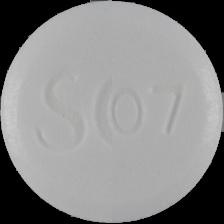44946-1009: (0, 0, 224, 224)
